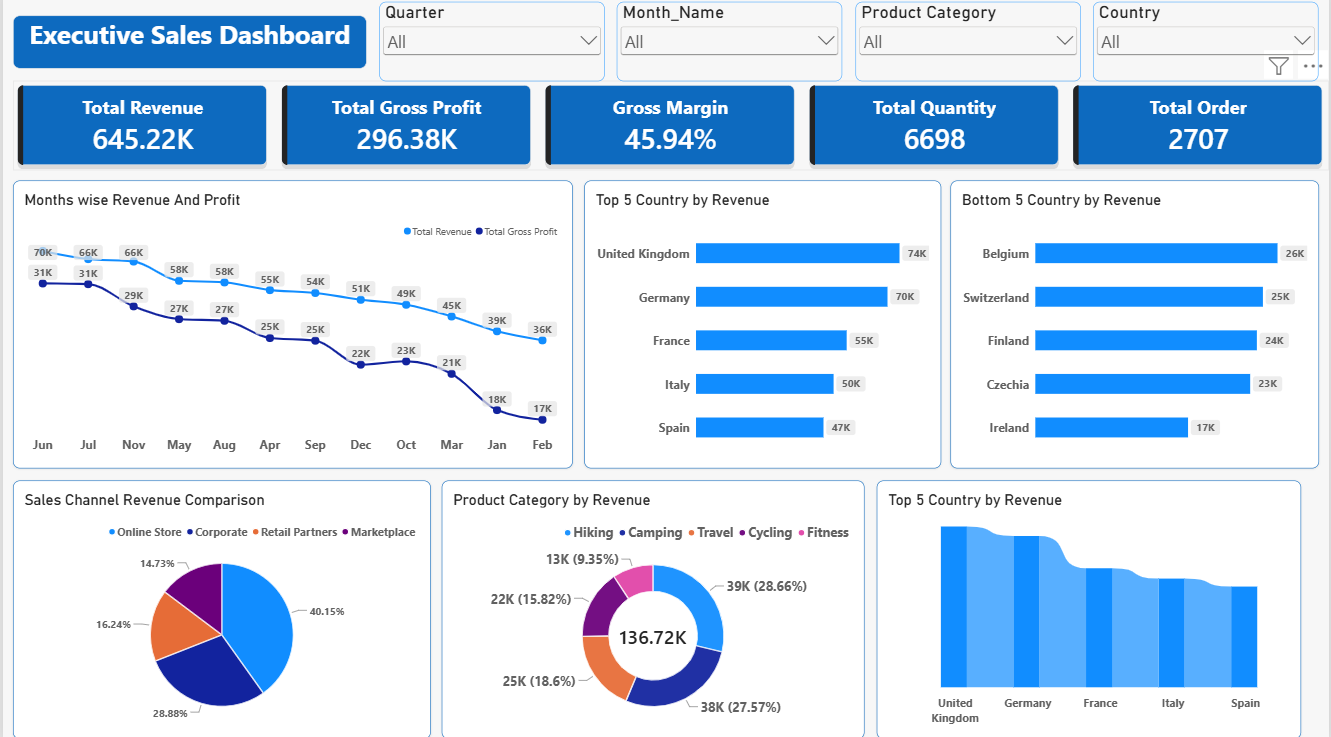

The dashboard page shown, as its layout file describes it:
{"tool":"powerbi","page":{"name":"Page 1","canvas":[1920,1080],"ordinal":0},"visuals":[{"type":"cardVisual","fields":{"Data":["All_Measures (2).Total Revenue","All_Measures (2).Total Gross Profit","All_Measures (2).Gross Margin","All_Measures (2).Total Quantity","All_Measures (2).Total Order"]},"box":[14.9,127.6,1904.9,129.7],"z":0},{"type":"textbox","box":[14.9,31.9,512.4,76.5],"z":1000},{"type":"slicer","fields":{"Values":["Sales_Data.Product Category"]},"box":[1233.6,12.8,326.6,114.8],"z":2000},{"type":"slicer","fields":{"Values":["Date_Table.Month_Number"]},"box":[888.9,12.8,326.6,114.8],"z":3000},{"type":"slicer","fields":{"Values":["Date_Table.Quarter"]},"box":[544.3,12.8,326.6,114.8],"z":4000},{"type":"slicer","fields":{"Values":["Sales_Data.Country"]},"box":[1578.2,12.8,326.6,114.8],"z":5000},{"type":"lineChart","title":"Months wise Revenue And Profit","fields":{"Category":["Date_Table.Month_Name"],"Y":["All_Measures (2).Total Revenue"],"Y2":["All_Measures (2).Total Gross Profit"]},"box":[14.9,272.1,810,416.7],"z":6000},{"type":"clusteredBarChart","title":"Top 5 Country by Revenue","fields":{"Category":["Sales_Data.Country"],"Y":["All_Measures (2).Total Revenue"]},"box":[841.9,272.1,516.6,416.7],"z":6001},{"type":"clusteredBarChart","title":"Bottom 5 Country by Revenue","fields":{"Category":["Sales_Data.Country"],"Y":["All_Measures (2).Total Revenue"]},"box":[1371.3,272.1,533.6,416.7],"z":6002},{"type":"pieChart","title":"Sales Channel Revenue Comparison","fields":{"Category":["Sales_Data.Sales Channel"],"Y":["All_Measures (2).Total Revenue"]},"box":[14.9,705.8,605.1,374.2],"z":6003},{"type":"donutChart","title":"Product Category by Revenue","fields":{"Category":["Sales_Data.Product Category"],"Y":["All_Measures (2).Total Gross Profit"]},"box":[635.7,705.8,612.3,374.2],"z":6004},{"type":"ribbonChart","title":"Top 5 Country by Revenue","fields":{"Category":["Sales_Data.Country"],"Y":["All_Measures (2).Total Revenue"]},"box":[1265,705.8,614.4,374.2],"z":6005}]}

Visuals, with their boxes in screenshot pixels (x1, y1, x2, y2), scaled from the page's 1920x1080 canvas onto the 1331x737 screenshot:
cardVisual - All_Measures (2).Total Revenue x All_Measures (2).Total Gross Profit: box=[10, 87, 1330, 176]
textbox: box=[10, 22, 366, 74]
slicer - Sales_Data.Product Category: box=[855, 9, 1082, 87]
slicer - Date_Table.Month_Number: box=[616, 9, 843, 87]
slicer - Date_Table.Quarter: box=[377, 9, 604, 87]
slicer - Sales_Data.Country: box=[1094, 9, 1320, 87]
"Months wise Revenue And Profit" lineChart: box=[10, 186, 572, 470]
"Top 5 Country by Revenue" clusteredBarChart: box=[584, 186, 942, 470]
"Bottom 5 Country by Revenue" clusteredBarChart: box=[951, 186, 1321, 470]
"Sales Channel Revenue Comparison" pieChart: box=[10, 482, 430, 736]
"Product Category by Revenue" donutChart: box=[441, 482, 865, 736]
"Top 5 Country by Revenue" ribbonChart: box=[877, 482, 1303, 736]
